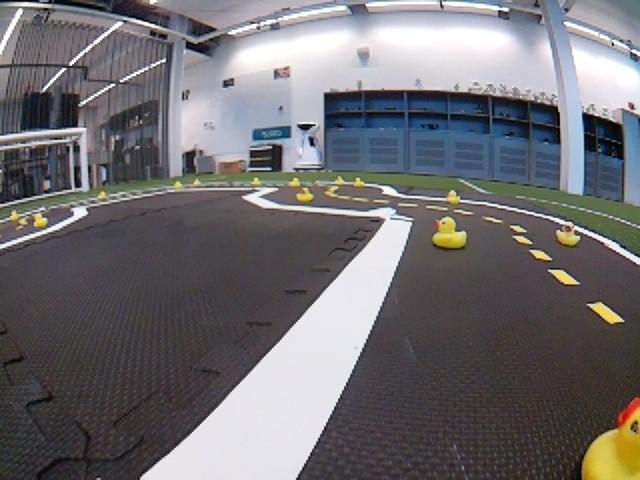Duckies: (582, 392, 640, 480), (431, 215, 469, 249), (555, 222, 581, 247), (293, 187, 316, 204), (444, 189, 461, 205), (31, 213, 49, 228), (289, 176, 301, 188), (9, 209, 20, 222), (353, 177, 366, 187), (333, 176, 345, 186), (251, 176, 262, 185), (98, 190, 108, 199), (173, 180, 183, 188), (193, 177, 202, 185)
